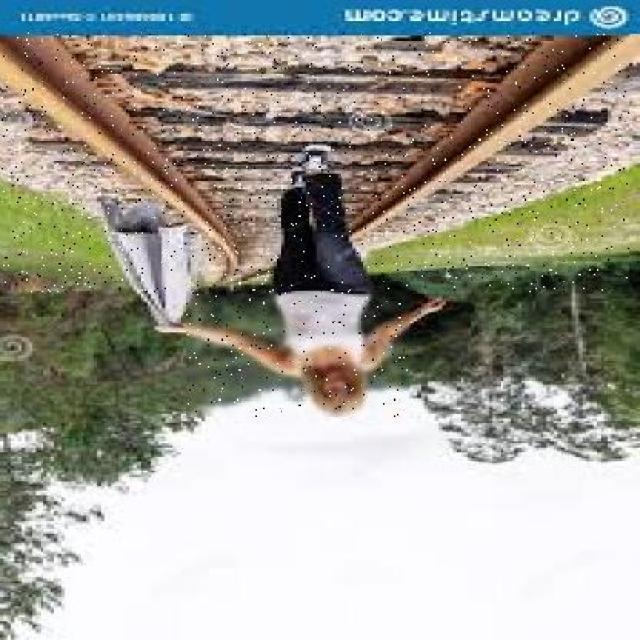danger: (186, 144, 409, 418)
rail: (0, 32, 629, 292), (223, 431, 228, 440)
